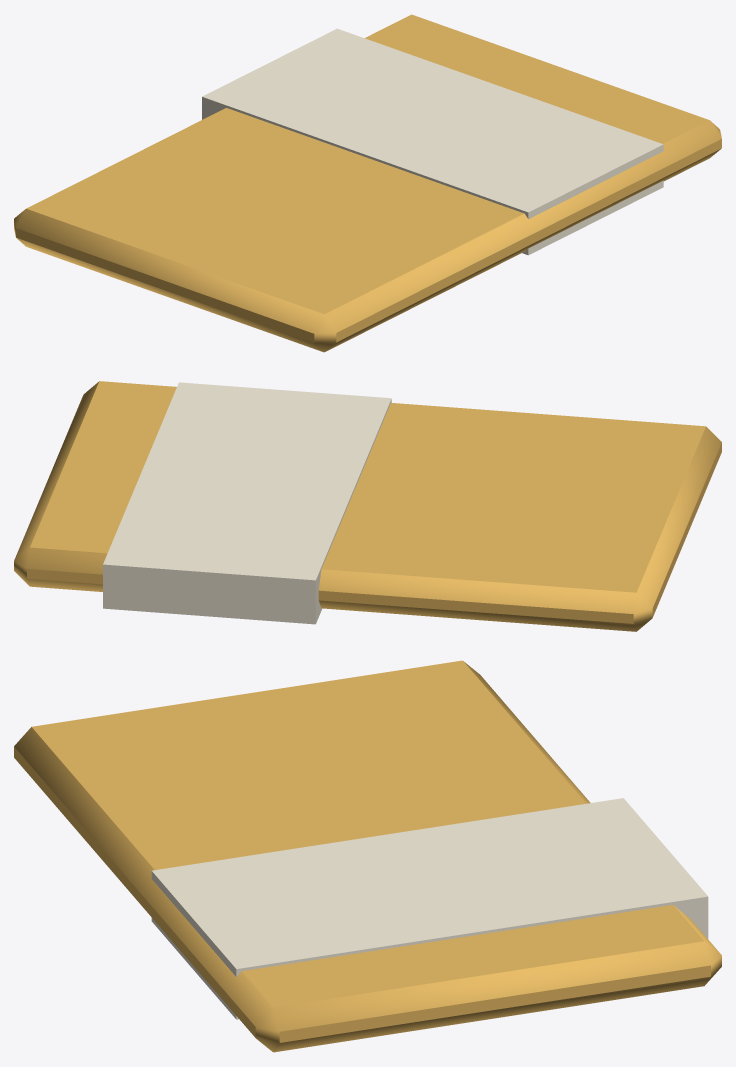
The model's file is litter_wrapper.glb.
3 views of the same model, one above another, from view 1: azimuth 30°, elevation 25°; view 2: azimuth 150°, elevation 25°; view 3: azimuth 270°, elevation 25° (orthographic). The views are drawn at different scales.
Parts seen in each view (by area): view 1: food_a, paper; view 2: food_a, paper; view 3: food_a, paper.
Part boxes in pixels (<box>): food_a: <box>14,14,721,352</box>; paper: <box>202,28,663,255</box>; food_a: <box>14,381,721,631</box>; paper: <box>103,382,391,624</box>; food_a: <box>14,660,721,1052</box>; paper: <box>151,798,708,1019</box>.
Size of the model in its own units: 0.1381 by 0.009 by 0.1142.
